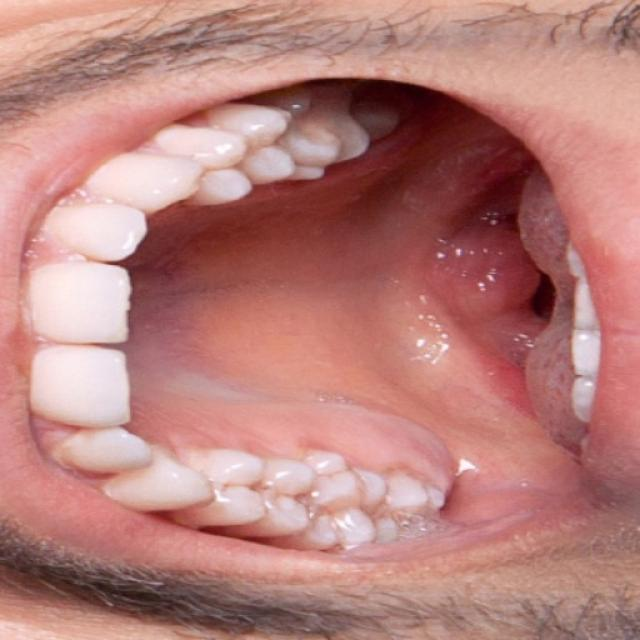processing_area: (139, 102, 596, 522)
